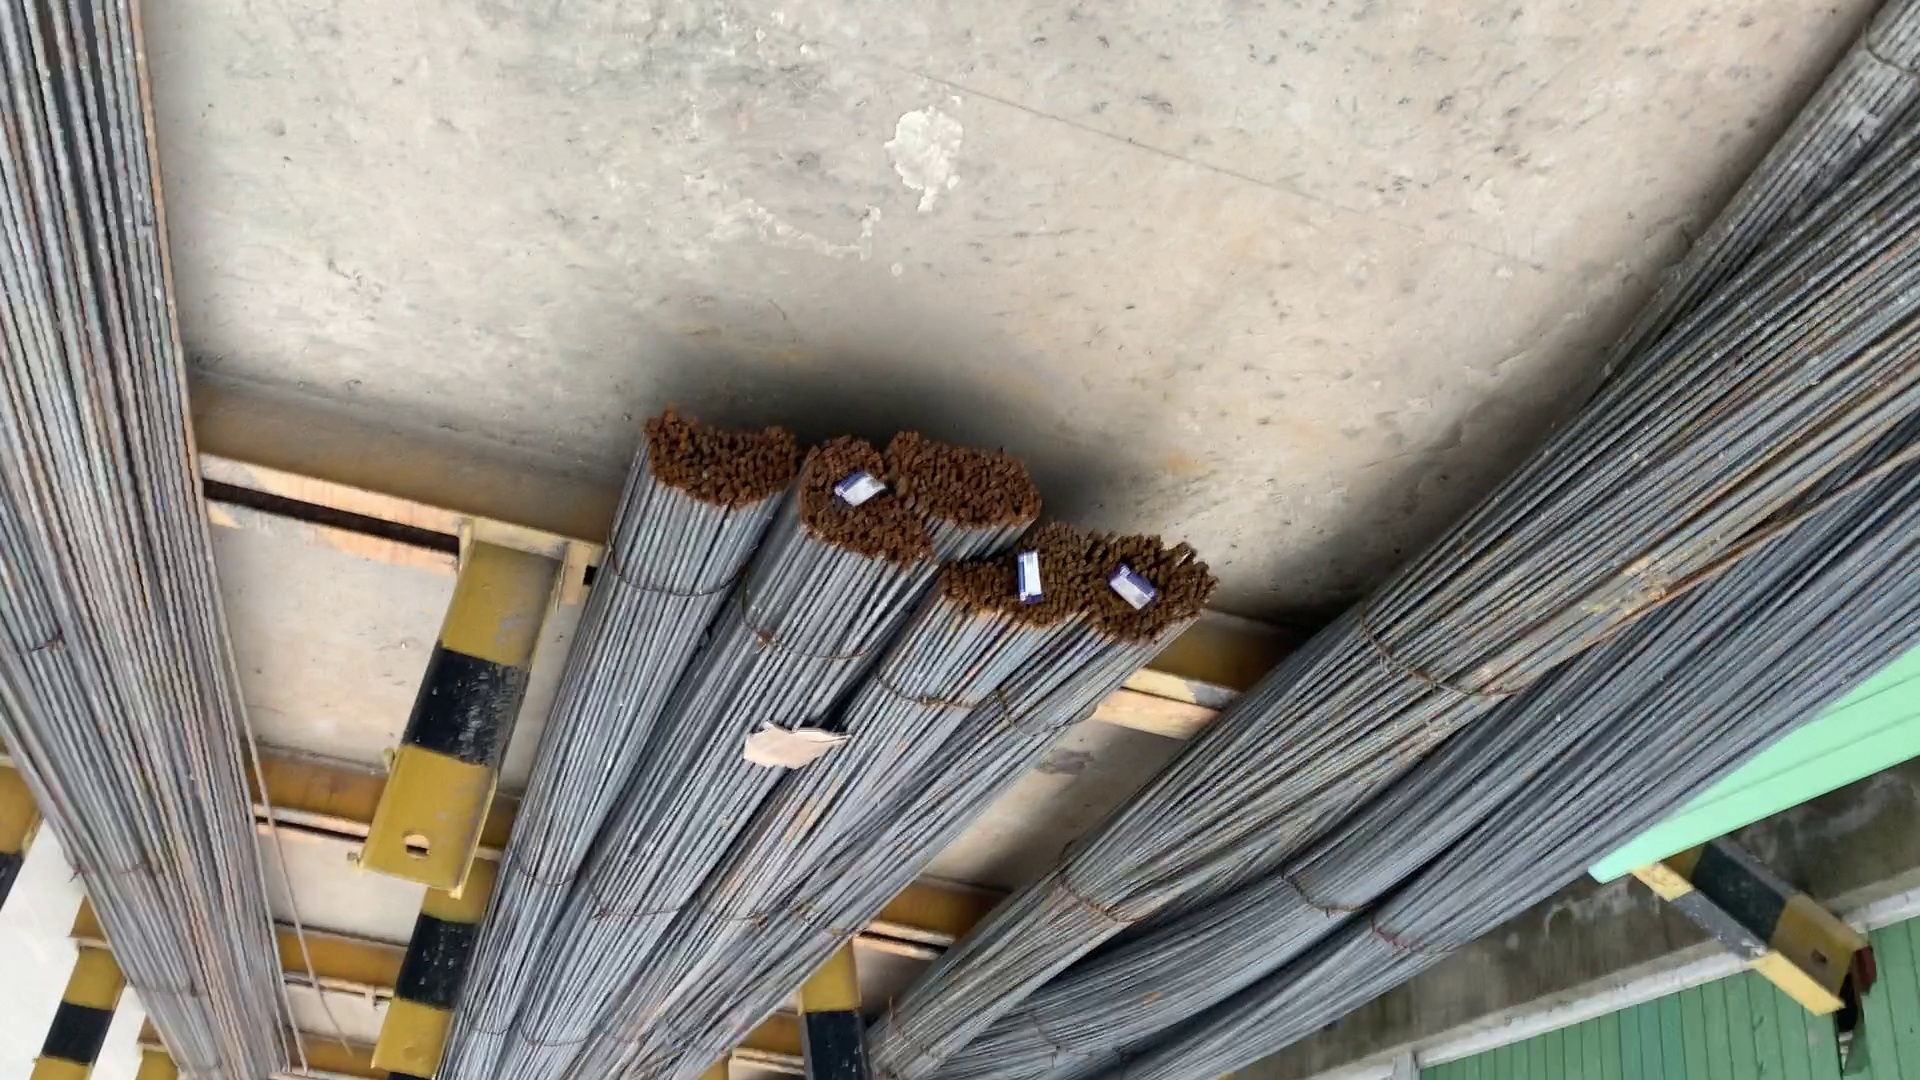rebar: (796, 434, 914, 568), (897, 427, 1040, 537), (634, 410, 793, 506), (1084, 541, 1220, 640), (942, 533, 1084, 620)
